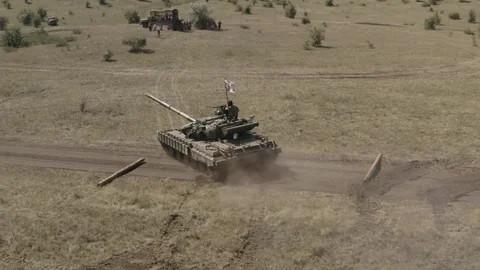tank: (145, 92, 282, 182)
